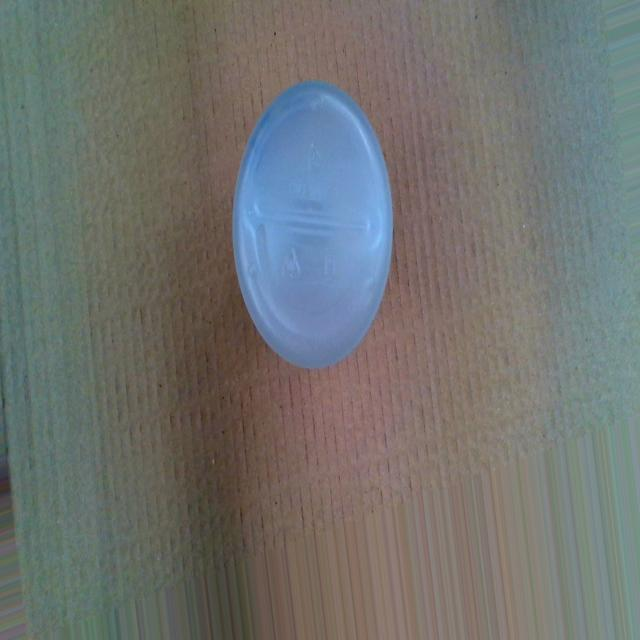bottle: (229, 74, 397, 372)
